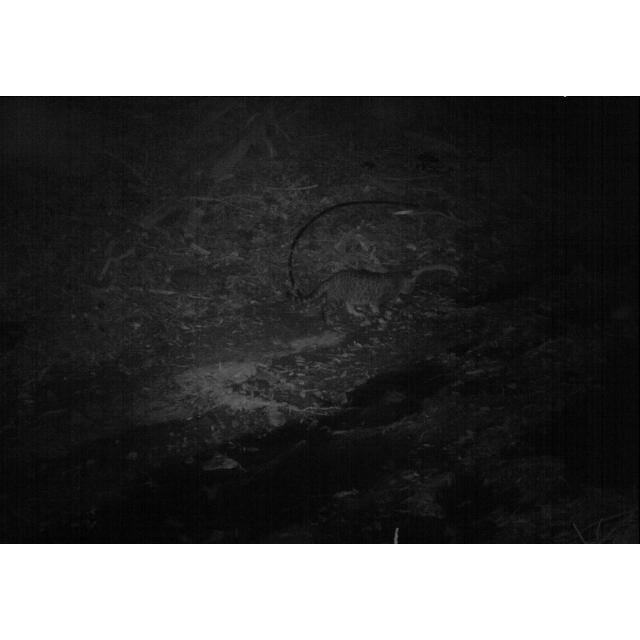animals: (294, 268, 406, 326)
